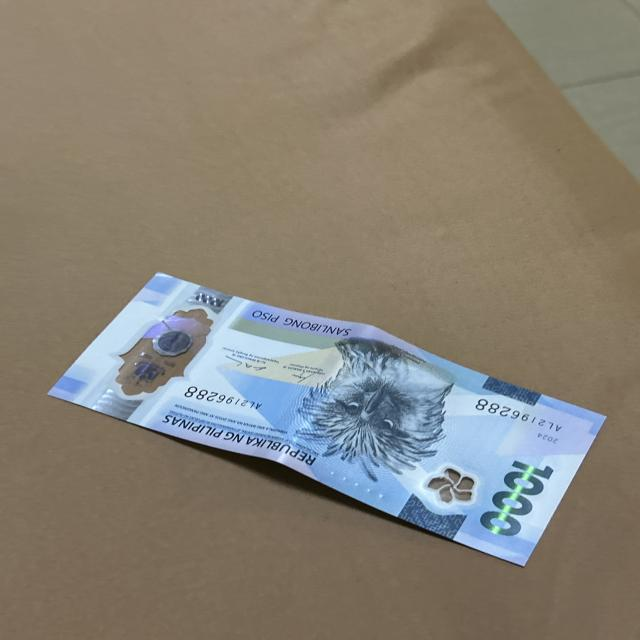clear_window: (112, 300, 210, 400)
eagle: (306, 334, 448, 476)
sampaguita: (428, 461, 477, 511)
